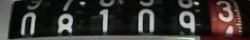digits: (94, 7, 114, 39), (213, 0, 235, 28), (137, 8, 155, 32), (178, 10, 196, 32), (19, 12, 36, 34), (56, 12, 73, 32)
